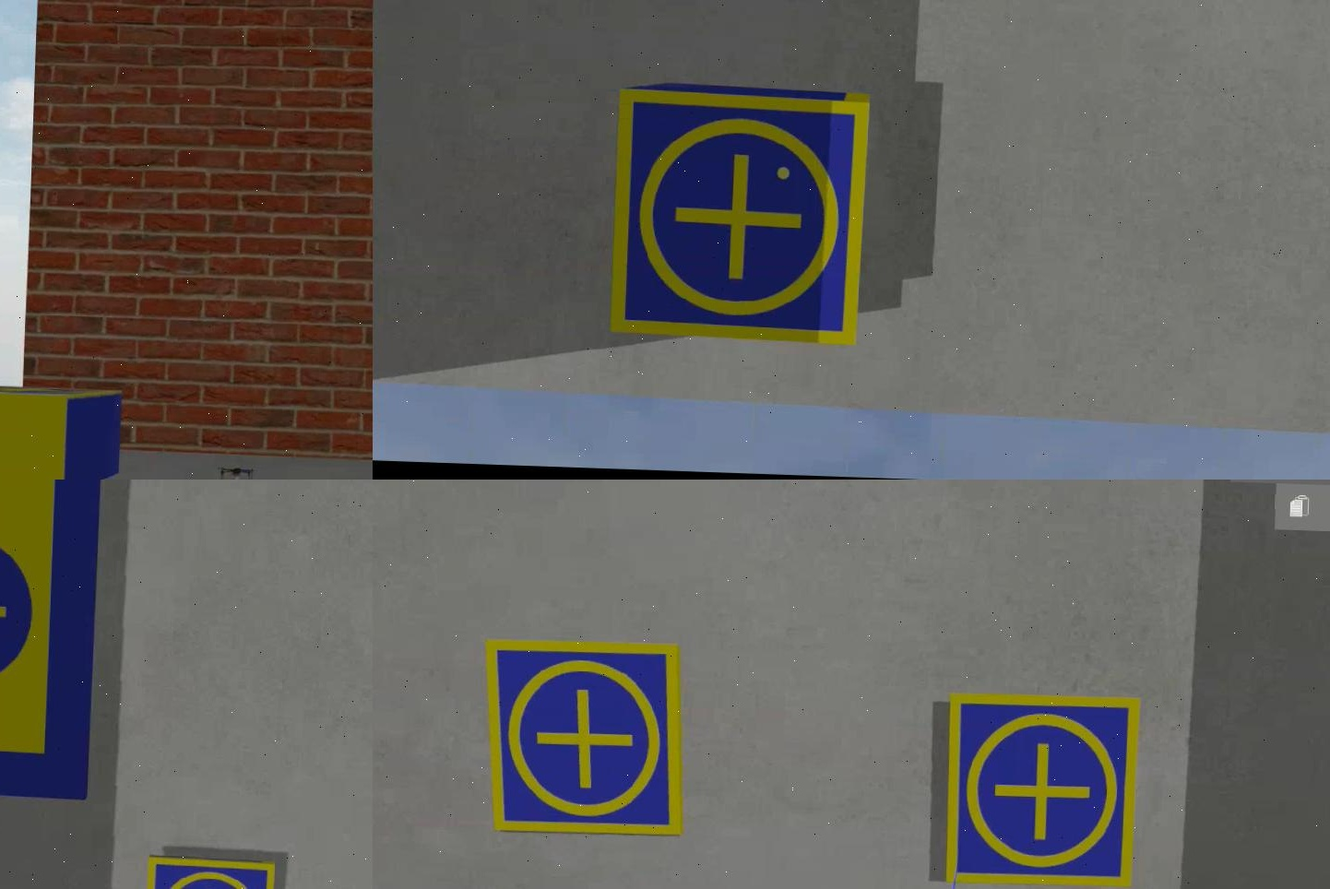large_base: (0, 480, 101, 802)
small_base: (612, 92, 869, 350), (475, 639, 686, 842), (939, 691, 1141, 889), (138, 854, 277, 889)
